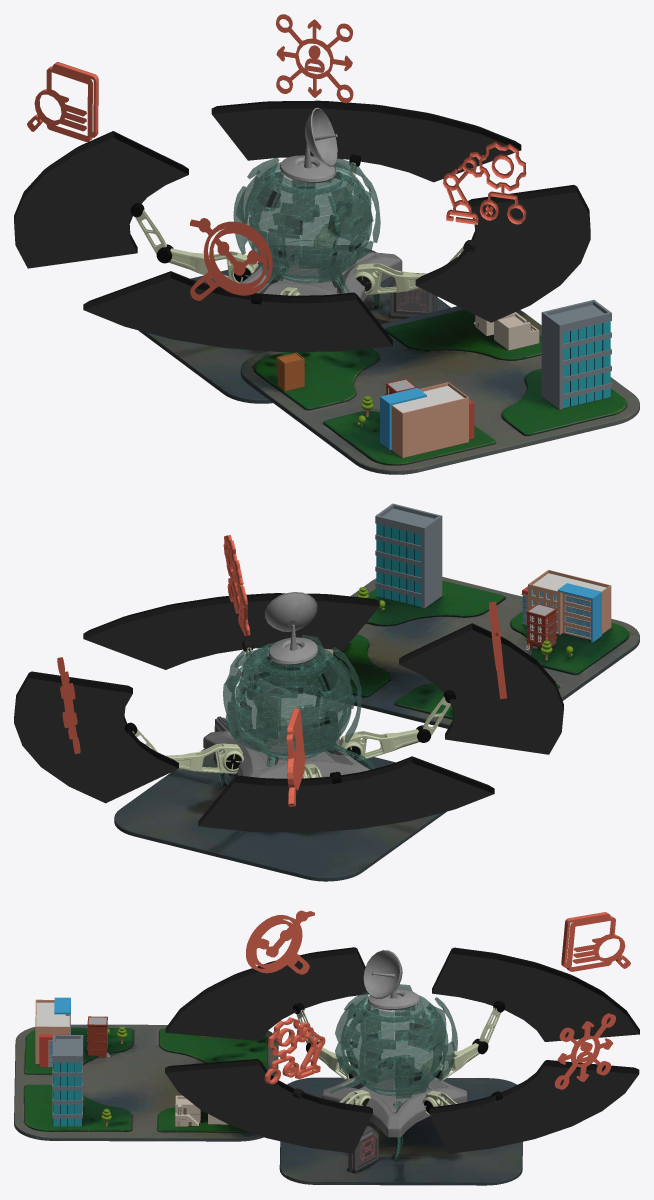
3 renders of one model, top to bottom at view 1: azimuth 30°, elevation 25°; view 2: azimuth 150°, elevation 25°; view 3: azimuth 270°, elevation 25°, orthographic. The views are drawn at different scales.
Visible parts, largest first — view 1: Cylinder.310, polySurface8.015, pPlaneShape4.002, polySurface53.008, polySurface58.006, pasted__pasted__pasted__pCylinder8.001, pasted__pasted__pasted__pCube1.001, pSphere2.006, Server_1.001, pSphere2.007; view 2: Cylinder.310, polySurface8.015, pasted__pasted__pasted__pCube1.001, polySurface53.008, polySurface58.006, pasted__pasted__pasted__pCylinder8.001, pPlaneShape4.002, pSphere2.006, pSphere2.007; view 3: Cylinder.310, polySurface8.015, pasted__pasted__pasted__pCube1.001, pPlaneShape4.002, polySurface53.008, polySurface58.006, pasted__pasted__pasted__pCylinder8.001, pSphere2.006, Server_1.001, pSphere2.007.
Boxes of the visible parts, bbox=[...] form: Cylinder.310: bbox=[14, 100, 590, 352]; polySurface8.015: bbox=[240, 299, 639, 474]; pPlaneShape4.002: bbox=[27, 14, 526, 300]; polySurface53.008: bbox=[245, 162, 372, 283]; polySurface58.006: bbox=[233, 155, 380, 283]; pasted__pasted__pasted__pCylinder8.001: bbox=[249, 171, 380, 308]; pasted__pasted__pasted__pCube1.001: bbox=[138, 245, 450, 403]; pSphere2.006: bbox=[280, 107, 337, 183]; Server_1.001: bbox=[388, 272, 437, 318]; pSphere2.007: bbox=[305, 108, 337, 166]; Cylinder.310: bbox=[14, 593, 563, 832]; polySurface8.015: bbox=[266, 503, 639, 728]; pasted__pasted__pasted__pCube1.001: bbox=[114, 748, 446, 881]; polySurface53.008: bbox=[231, 642, 352, 760]; polySurface58.006: bbox=[223, 634, 361, 754]; pasted__pasted__pasted__pCylinder8.001: bbox=[218, 656, 375, 785]; pPlaneShape4.002: bbox=[57, 535, 506, 806]; pSphere2.006: bbox=[265, 592, 317, 665]; pSphere2.007: bbox=[264, 592, 316, 630]; Cylinder.310: bbox=[165, 947, 639, 1153]; polySurface8.015: bbox=[14, 997, 278, 1141]; pasted__pasted__pasted__pCube1.001: bbox=[279, 1077, 522, 1185]; pPlaneShape4.002: bbox=[246, 910, 630, 1089]; polySurface53.008: bbox=[341, 995, 448, 1096]; polySurface58.006: bbox=[335, 984, 457, 1098]; pasted__pasted__pasted__pCylinder8.001: bbox=[329, 1003, 444, 1159]; pSphere2.006: bbox=[363, 950, 419, 1010]; Server_1.001: bbox=[347, 1126, 379, 1173]; pSphere2.007: bbox=[363, 950, 402, 998].
Size of the model in its own units: 0.4637 by 0.214 by 0.611.
35 materials, 12 textured.
